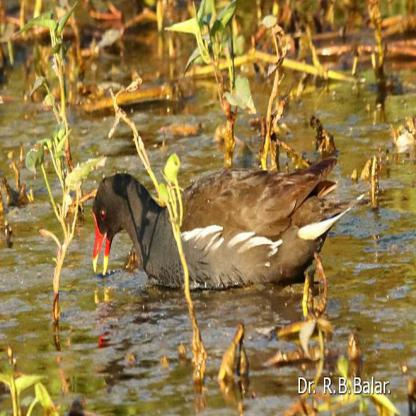Burung: (92, 156, 350, 288)
